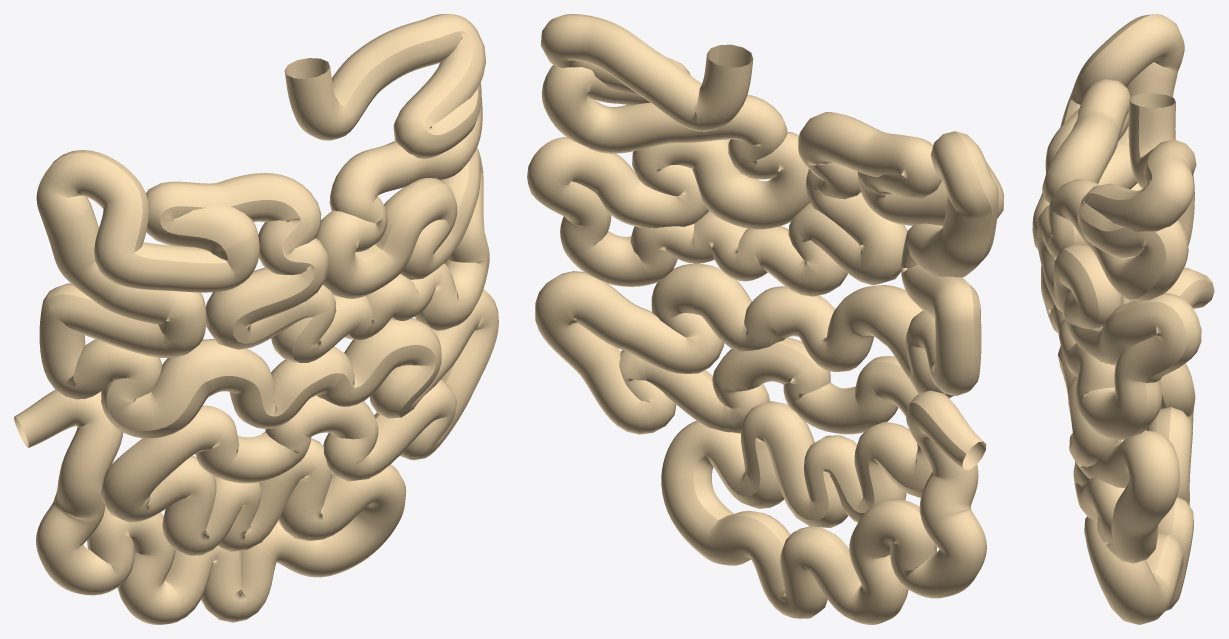
The model's file is jejuno_ileo.glb.
3 views of the same model, side by side, from view 1: azimuth 30°, elevation 25°; view 2: azimuth 150°, elevation 25°; view 3: azimuth 270°, elevation 25° (orthographic).
Parts seen in each view (by area): view 1: jejuno_ileo; view 2: jejuno_ileo; view 3: jejuno_ileo.
Part boxes in pixels (bbox=[...]): jejuno_ileo: bbox=[14, 14, 498, 624]; jejuno_ileo: bbox=[527, 14, 1003, 624]; jejuno_ileo: bbox=[1032, 14, 1214, 624].
Bounding box in the file's own units: 0.183 × 0.2087 × 0.0621.
